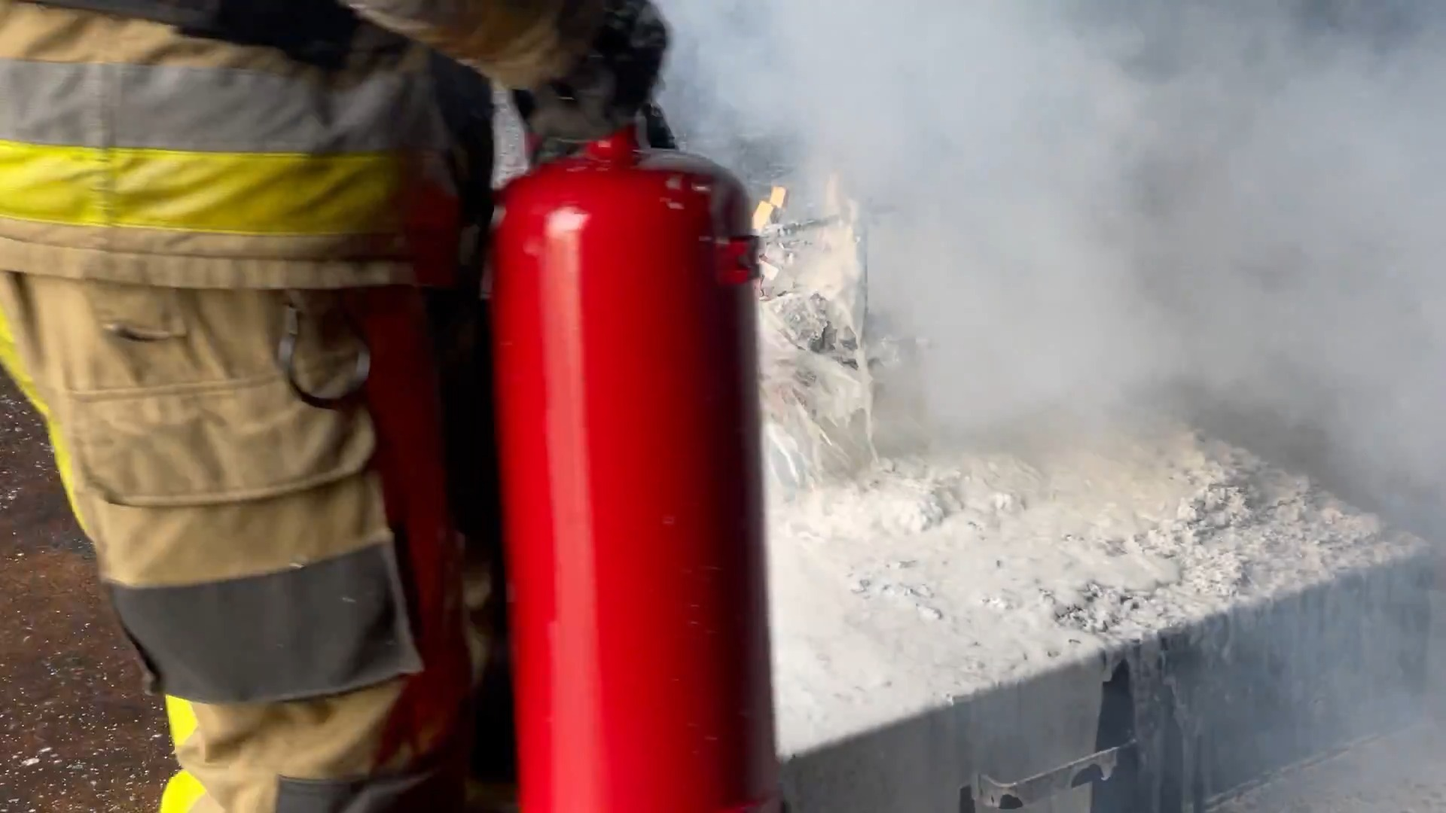fire: (816, 168, 868, 294), (746, 184, 790, 245)
smoke: (688, 24, 1439, 546)
